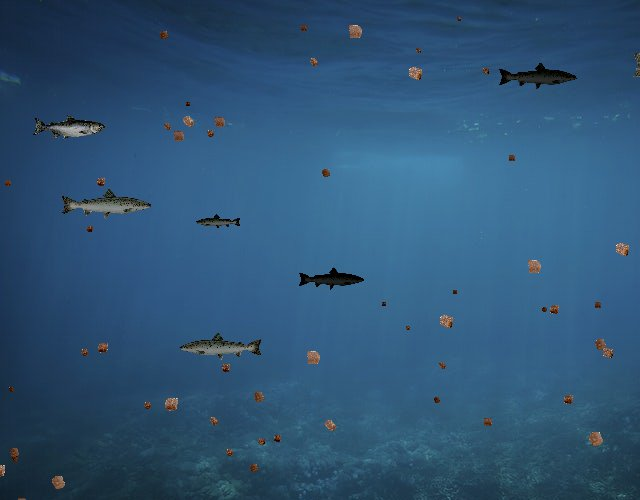Fish: (59, 187, 153, 221), (178, 331, 264, 362), (498, 62, 579, 91), (32, 115, 105, 141), (298, 266, 366, 290), (196, 214, 243, 231)
Pellet: (157, 391, 185, 419), (176, 109, 201, 134), (318, 414, 342, 438), (4, 442, 25, 463), (159, 118, 176, 135), (76, 345, 92, 361), (478, 64, 492, 78), (538, 304, 551, 317)
